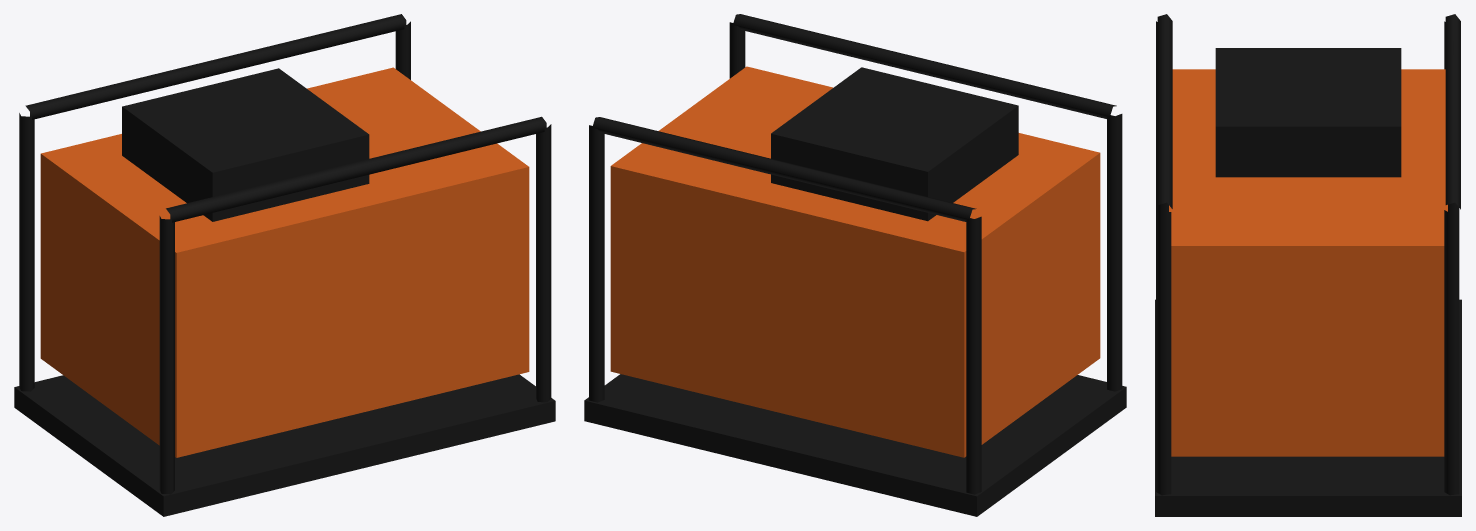
File: SM_generator.glb
The picture shows the model from 3 angles, left to right: view 1: azimuth 30°, elevation 25°; view 2: azimuth 150°, elevation 25°; view 3: azimuth 270°, elevation 25°; orthographic projection. The views are drawn at different scales.
Parts seen in each view (by area): view 1: SM_generator; view 2: SM_generator; view 3: SM_generator.
Boxes of the visible parts, <box> form: SM_generator: <box>14,14,555,516</box>; SM_generator: <box>584,14,1126,516</box>; SM_generator: <box>1155,14,1461,516</box>.
Bounding box in the file's own units: 1 × 0.74 × 0.66.
